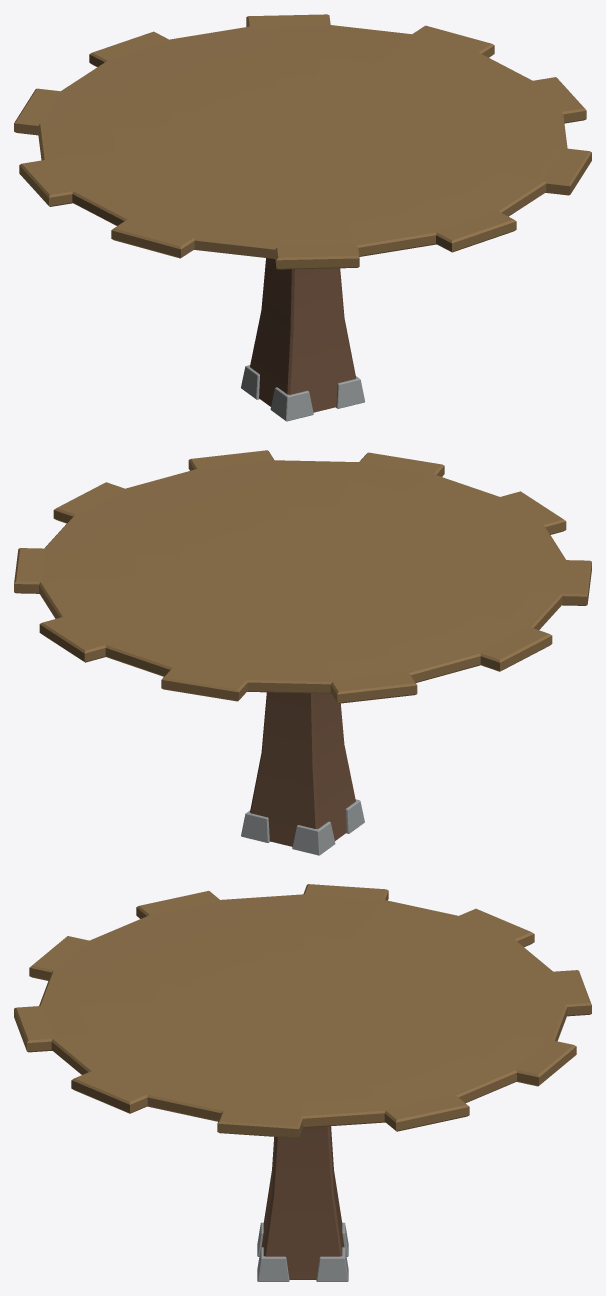
File: table.fbx
3 renders of one model, top to bottom at view 1: azimuth 30°, elevation 25°; view 2: azimuth 150°, elevation 25°; view 3: azimuth 270°, elevation 25°, orthographic.
Parts seen in each view (by area): view 1: tableTop, leg, bottomCorners; view 2: tableTop, leg, bottomCorners; view 3: tableTop, leg, bottomCorners.
Boxes of the visible parts, left/top/right/bottom form: tableTop: left=14, top=14, right=591, bottom=269; leg: left=250, top=258, right=355, bottom=412; bottomCorners: left=241, top=365, right=364, bottom=421; tableTop: left=14, top=450, right=591, bottom=703; leg: left=250, top=692, right=355, bottom=846; bottomCorners: left=241, top=799, right=364, bottom=855; tableTop: left=14, top=884, right=591, bottom=1138; leg: left=261, top=1126, right=344, bottom=1279; bottomCorners: left=257, top=1222, right=348, bottom=1281.
Bounding box in the file's own units: 143 × 71.47 × 143.
